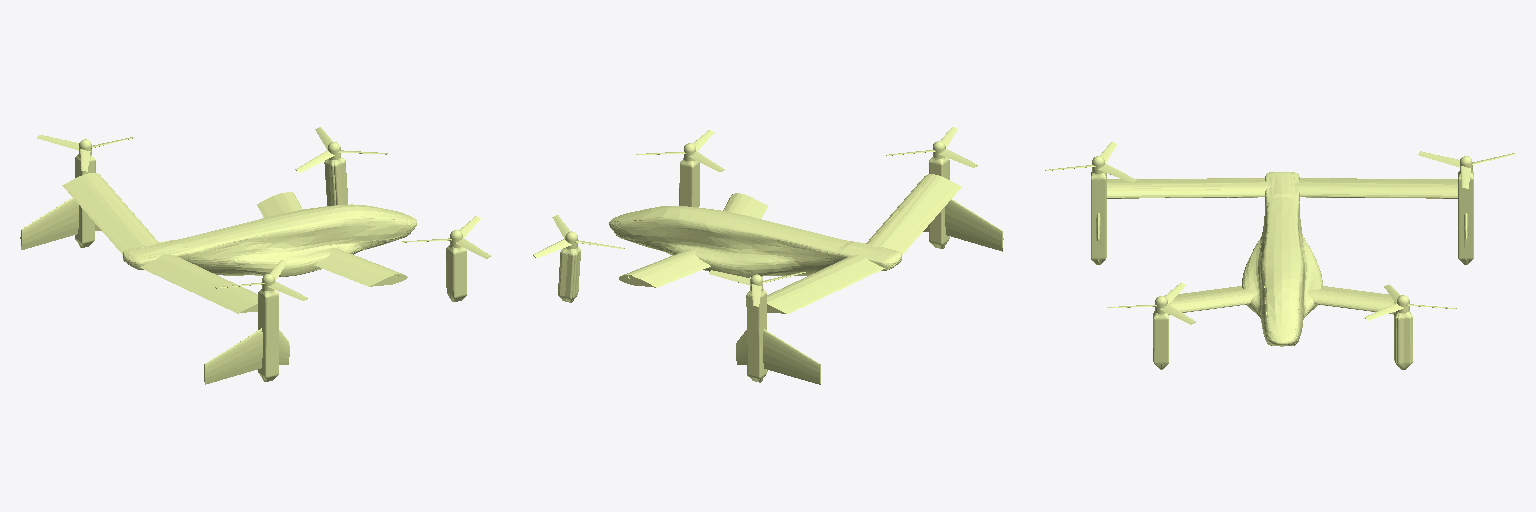
URDF robot description (vant_5_aerod):
<?xml version="1.0" encoding="UTF-8"?>
<!--
This file is part of the ProVANT simulator project.
Licensed under the terms of the MIT open source license. More details at
https://github.com/Guiraffo/ProVANT-Simulator/blob/master/LICENSE.md
-->
<robot name="vant_5_aerod">
  <link name="main_body">
    <inertial>
      <origin xyz="-0.078058 0 -0.12418" rpy="0 0 0" />
      <mass value="19.067" />
      <inertia ixx="0.44425" ixy="0" ixz="-0.1429" iyy="1.2557" iyz="0" izz="1.6146" />
    </inertial>
    <visual>
      <origin xyz="0 0 0" rpy="0 0 0" />
      <geometry>
        <mesh filename="package://vant_5_aerod/meshes/main_body.STL" />
      </geometry>
      <material name="">
        <color rgba="0.95294 0.99608 0.69412 1" />
      </material>
    </visual>
    <collision>
      <origin xyz="0 0 0" rpy="0 0 0" />
      <geometry>
        <mesh filename="package://vant_5_aerod/meshes/main_body.STL" />
      </geometry>
    </collision>
  </link>
  <link name="rotorCm2">
    <inertial>
      <origin xyz="0 0 -0.0045697" rpy="0 0 0" />
      <mass value="0.51926" />
      <inertia ixx="0.0022642" ixy="0" ixz="0" iyy="0.0022651" iyz="0" izz="0.00041063" />
    </inertial>
    <visual>
      <origin xyz="0 0 0" rpy="0 0 0" />
      <geometry>
        <mesh filename="package://vant_5_aerod/meshes/rotorCm2.STL" />
      </geometry>
      <material name="">
        <color rgba="0.95294 0.99608 0.69412 1" />
      </material>
    </visual>
    <collision>
      <origin xyz="0 0 0" rpy="0 0 0" />
      <geometry>
        <mesh filename="package://vant_5_aerod/meshes/rotorCm2.STL" />
      </geometry>
    </collision>
  </link>
  <joint name="rotationCm2" type="revolute">
    <origin xyz="0.47527 -0.375 -0.10177" rpy="0 0 0" />
    <parent link="main_body" />
    <child link="rotorCm2" />
    <axis xyz="0 1 0" />
    <limit lower="-1.57" upper="1.57" effort="0" velocity="0" />
  </joint>
  <link name="proppeller2">
    <inertial>
      <origin xyz="0.00060272 4.4009E-05 -0.074568" rpy="0 0 0" />
      <mass value="0.02" />
      <inertia ixx="0.0022644" ixy="2.5331E-07" ixz="1.4153E-05" iyy="0.0022649" iyz="-1.2481E-07" izz="0.00041063" />
    </inertial>
    <visual>
      <origin xyz="0 0 0" rpy="0 0 0" />
      <geometry>
        <mesh filename="package://vant_5_aerod/meshes/proppeller2.STL" />
      </geometry>
      <material name="">
        <color rgba="0.95294 0.99608 0.69412 1" />
      </material>
    </visual>
    <collision>
      <origin xyz="0 0 0" rpy="0 0 0" />
      <geometry>
        <mesh filename="package://vant_5_aerod/meshes/proppeller2.STL" />
      </geometry>
    </collision>
  </link>
  <joint name="joint_rotor2prop2" type="revolute">
    <origin xyz="-0.0005434 0 0.069998" rpy="0 0 0" />
    <parent link="rotorCm2" />
    <child link="proppeller2" />
    <axis xyz="0.0077629 0 -0.99997" />
    <limit lower="-3.1416" upper="3.1416" effort="0" velocity="0" />
  </joint>
  <link name="rotorCm3">
    <inertial>
      <origin xyz="0 0 -0.0045589" rpy="0 0 0" />
      <mass value="0.51927" />
      <inertia ixx="0.0022563" ixy="0" ixz="0.00012277" iyy="0.0022653" iyz="0" izz="0.00041886" />
    </inertial>
    <visual>
      <origin xyz="0 0 0" rpy="0 0 0" />
      <geometry>
        <mesh filename="package://vant_5_aerod/meshes/rotorCm3.STL" />
      </geometry>
      <material name="">
        <color rgba="0.95294 0.99608 0.69412 1" />
      </material>
    </visual>
    <collision>
      <origin xyz="0 0 0" rpy="0 0 0" />
      <geometry>
        <mesh filename="package://vant_5_aerod/meshes/rotorCm3.STL" />
      </geometry>
    </collision>
  </link>
  <joint name="rotationCm3" type="revolute">
    <origin xyz="0.47527 0.375 -0.10177" rpy="0 0 0" />
    <parent link="main_body" />
    <child link="rotorCm3" />
    <axis xyz="0 -1 0" />
    <limit lower="-1.57" upper="1.57" effort="0" velocity="0" />
  </joint>
  <link name="proppeler3">
    <inertial>
      <origin xyz="0.0049643 -4.3624E-05 -0.074402" rpy="0 0 0" />
      <mass value="0.02" />
      <inertia ixx="0.0022565" ixy="-2.3963E-07" ixz="0.00012245" iyy="0.0022651" iyz="2.6894E-08" izz="0.00041885" />
    </inertial>
    <visual>
      <origin xyz="0 0 0" rpy="0 0 0" />
      <geometry>
        <mesh filename="package://vant_5_aerod/meshes/proppeler3.STL" />
      </geometry>
      <material name="">
        <color rgba="0.95294 0.99608 0.69412 1" />
      </material>
    </visual>
    <collision>
      <origin xyz="0 0 0" rpy="0 0 0" />
      <geometry>
        <mesh filename="package://vant_5_aerod/meshes/proppeler3.STL" />
      </geometry>
    </collision>
  </link>
  <joint name="joint_rotor3prop3" type="revolute">
    <origin xyz="-0.00464240385383174 0 0.0698458881141759" rpy="0 0 0" />
    <parent link="rotorCm3" />
    <child link="proppeler3" />
    <axis xyz="0.0663200550547391 0 -0.997798401631079" />
    <limit lower="-3.1416" upper="3.1416" effort="0" velocity="0" />
  </joint>
  <link name="rotorCm4">
    <inertial>
      <origin xyz="-0.017875 0 -0.083521" rpy="0 0 0" />
      <mass value="1.0763" />
      <inertia ixx="0.0093551" ixy="0" ixz="0.0012177" iyy="0.012026" iyz="0" izz="0.0032113" />
    </inertial>
    <visual>
      <origin xyz="0 0 0" rpy="0 0 0" />
      <geometry>
        <mesh filename="package://vant_5_aerod/meshes/rotorCm4.STL" />
      </geometry>
      <material name="">
        <color rgba="0.95294 0.99608 0.69412 1" />
      </material>
    </visual>
    <collision>
      <origin xyz="0 0 0" rpy="0 0 0" />
      <geometry>
        <mesh filename="package://vant_5_aerod/meshes/rotorCm4.STL" />
      </geometry>
    </collision>
  </link>
  <joint name="rotationCm4" type="revolute">
    <origin xyz="-0.31213 -0.57 0.010512" rpy="0 0 0" />
    <parent link="main_body" />
    <child link="rotorCm4" />
    <axis xyz="0 1 0" />
    <limit lower="-1.57" upper="1.57" effort="0" velocity="0" />
  </joint>
  <link name="proppeller4">
    <inertial>
      <origin xyz="-0.0043765 0.017222 -0.15355" rpy="0 0 0" />
      <mass value="0.02" />
      <inertia ixx="0.011887" ixy="0.00059442" ixz="-0.00029665" iyy="0.0094994" iyz="0.0011697" izz="0.0032078" />
    </inertial>
    <visual>
      <origin xyz="0 0 0" rpy="0 0 0" />
      <geometry>
        <mesh filename="package://vant_5_aerod/meshes/proppeller4.STL" />
      </geometry>
      <material name="">
        <color rgba="0.95294 0.99608 0.69412 1" />
      </material>
    </visual>
    <collision>
      <origin xyz="0 0 0" rpy="0 0 0" />
      <geometry>
        <mesh filename="package://vant_5_aerod/meshes/proppeller4.STL" />
      </geometry>
    </collision>
  </link>
  <joint name="joint_rotor4prop4" type="revolute">
    <origin xyz="0.00016905918442589 0 0.0699997958496448" rpy="0 0 0" />
    <parent link="rotorCm4" />
    <child link="proppeller4" />
    <axis xyz="-0.00241513120605813 0 -0.999997083566376" />
    <limit lower="-3.1416" upper="3.1416" effort="0" velocity="0" />
  </joint>
  <link name="rotorCm5">
    <inertial>
      <origin xyz="-0.017875 0 -0.083521" rpy="0 0 0" />
      <mass value="1.076" />
      <inertia ixx="0.0093551" ixy="0" ixz="0.0012177" iyy="0.012026" iyz="0" izz="0.0032113" />
    </inertial>
    <visual>
      <origin xyz="0 0 0" rpy="0 0 0" />
      <geometry>
        <mesh filename="package://vant_5_aerod/meshes/rotorCm5.STL" />
      </geometry>
      <material name="">
        <color rgba="0.95294 0.99608 0.69412 1" />
      </material>
    </visual>
    <collision>
      <origin xyz="0 0 0" rpy="0 0 0" />
      <geometry>
        <mesh filename="package://vant_5_aerod/meshes/rotorCm5.STL" />
      </geometry>
    </collision>
  </link>
  <joint name="rotationCm5" type="revolute">
    <origin xyz="-0.31213 0.57 0.010512" rpy="0 0 0" />
    <parent link="main_body" />
    <child link="rotorCm5" />
    <axis xyz="0 -1 0" />
    <limit lower="-1.57" upper="1.57" effort="0" velocity="0" />
  </joint>
  <link name="proppeller5">
    <inertial>
      <origin xyz="-0.0043765 0.017222 -0.15355" rpy="0 0 0" />
      <mass value="0.02" />
      <inertia ixx="0.011887" ixy="0.00059442" ixz="-0.00029665" iyy="0.0094994" iyz="0.0011697" izz="0.0032078" />
    </inertial>
    <visual>
      <origin xyz="0 0 0" rpy="0 0 0" />
      <geometry>
        <mesh filename="package://vant_5_aerod/meshes/proppeller5.STL" />
      </geometry>
      <material name="">
        <color rgba="0.95294 0.99608 0.69412 1" />
      </material>
    </visual>
    <collision>
      <origin xyz="0 0 0" rpy="0 0 0" />
      <geometry>
        <mesh filename="package://vant_5_aerod/meshes/proppeller5.STL" />
      </geometry>
    </collision>
  </link>
  <joint name="joint_rotor5prop5" type="revolute">
    <origin xyz="0.000403937556759715 0 0.0699988345220843" rpy="0 0 0" />
    <parent link="rotorCm5" />
    <child link="proppeller5" />
    <axis xyz="-0.00577053652512141 0 -0.9999833503155" />
    <limit lower="-3.1416" upper="3.1416" effort="0" velocity="0" />
  </joint>
</robot>

--- Render facts (derived) ---
Views: 3 orthographic renders of the robot side by side, from view 1: azimuth 30°, elevation 25°; view 2: azimuth 150°, elevation 25°; view 3: azimuth 270°, elevation 25°.
Model vant_5_aerod with 9 links and 8 joints (8 revolute), rooted at main_body, posed all joints at 0.
Visible links, largest first — view 1: main_body, rotorCm4, rotorCm5, proppeler3, rotorCm2, proppeller2, proppeller4, proppeller5; view 2: main_body, rotorCm5, rotorCm4, proppeler3, rotorCm2, proppeller2, proppeller4, proppeller5, rotorCm3; view 3: main_body, rotorCm4, rotorCm5, proppeler3, rotorCm2, proppeller4, proppeller5, proppeller2.
Link boxes in pixels (<box>): main_body: <box>62,173,416,313</box>; rotorCm4: <box>204,289,289,384</box>; rotorCm5: <box>20,154,101,249</box>; proppeler3: <box>295,127,387,205</box>; rotorCm2: <box>446,245,466,301</box>; proppeller2: <box>402,216,490,258</box>; proppeller4: <box>215,260,307,300</box>; proppeller5: <box>37,135,133,171</box>; main_body: <box>609,174,961,313</box>; rotorCm5: <box>736,289,820,384</box>; rotorCm4: <box>923,157,1003,251</box>; proppeler3: <box>533,215,624,301</box>; rotorCm2: <box>679,158,699,206</box>; proppeller2: <box>636,130,724,171</box>; proppeller4: <box>886,127,977,167</box>; proppeller5: <box>709,270,805,306</box>; rotorCm3: <box>558,247,580,302</box>; main_body: <box>1107,172,1457,346</box>; rotorCm4: <box>1091,172,1106,264</box>; rotorCm5: <box>1458,171,1473,264</box>; proppeler3: <box>1364,284,1456,369</box>; rotorCm2: <box>1153,311,1168,369</box>; proppeller4: <box>1045,142,1137,183</box>; proppeller5: <box>1418,151,1514,188</box>; proppeller2: <box>1107,283,1195,324</box>.
Bounding box of the posed robot: 1.16 × 1.46 × 0.3672 m (x, y, z).
9 mesh visuals loaded from 9 distinct referenced files (9 binary STL).